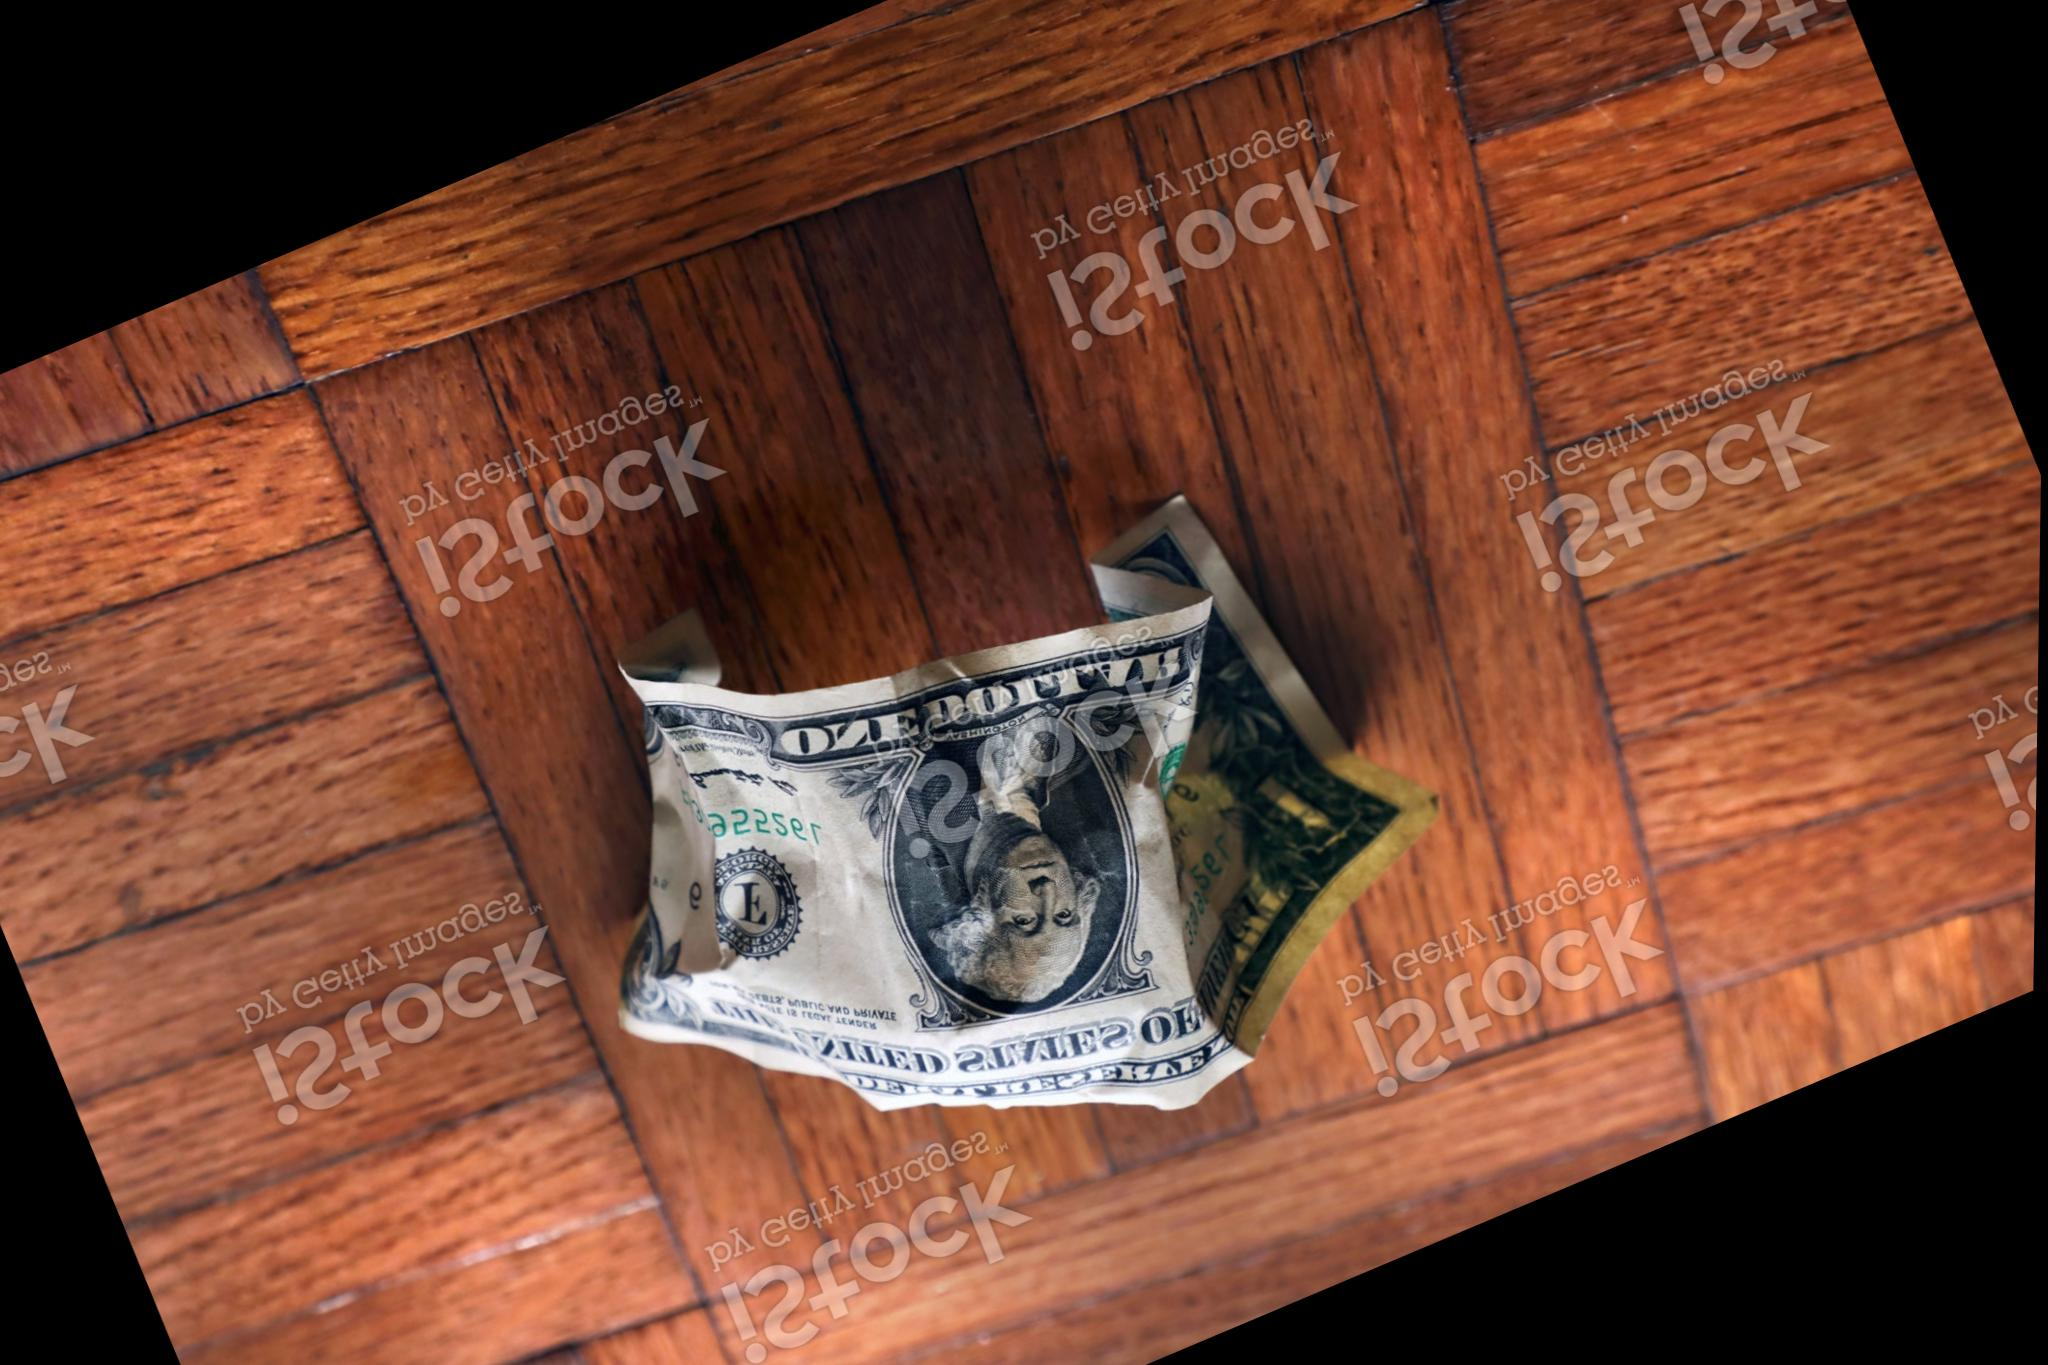paper: (464, 439, 1485, 1351)
